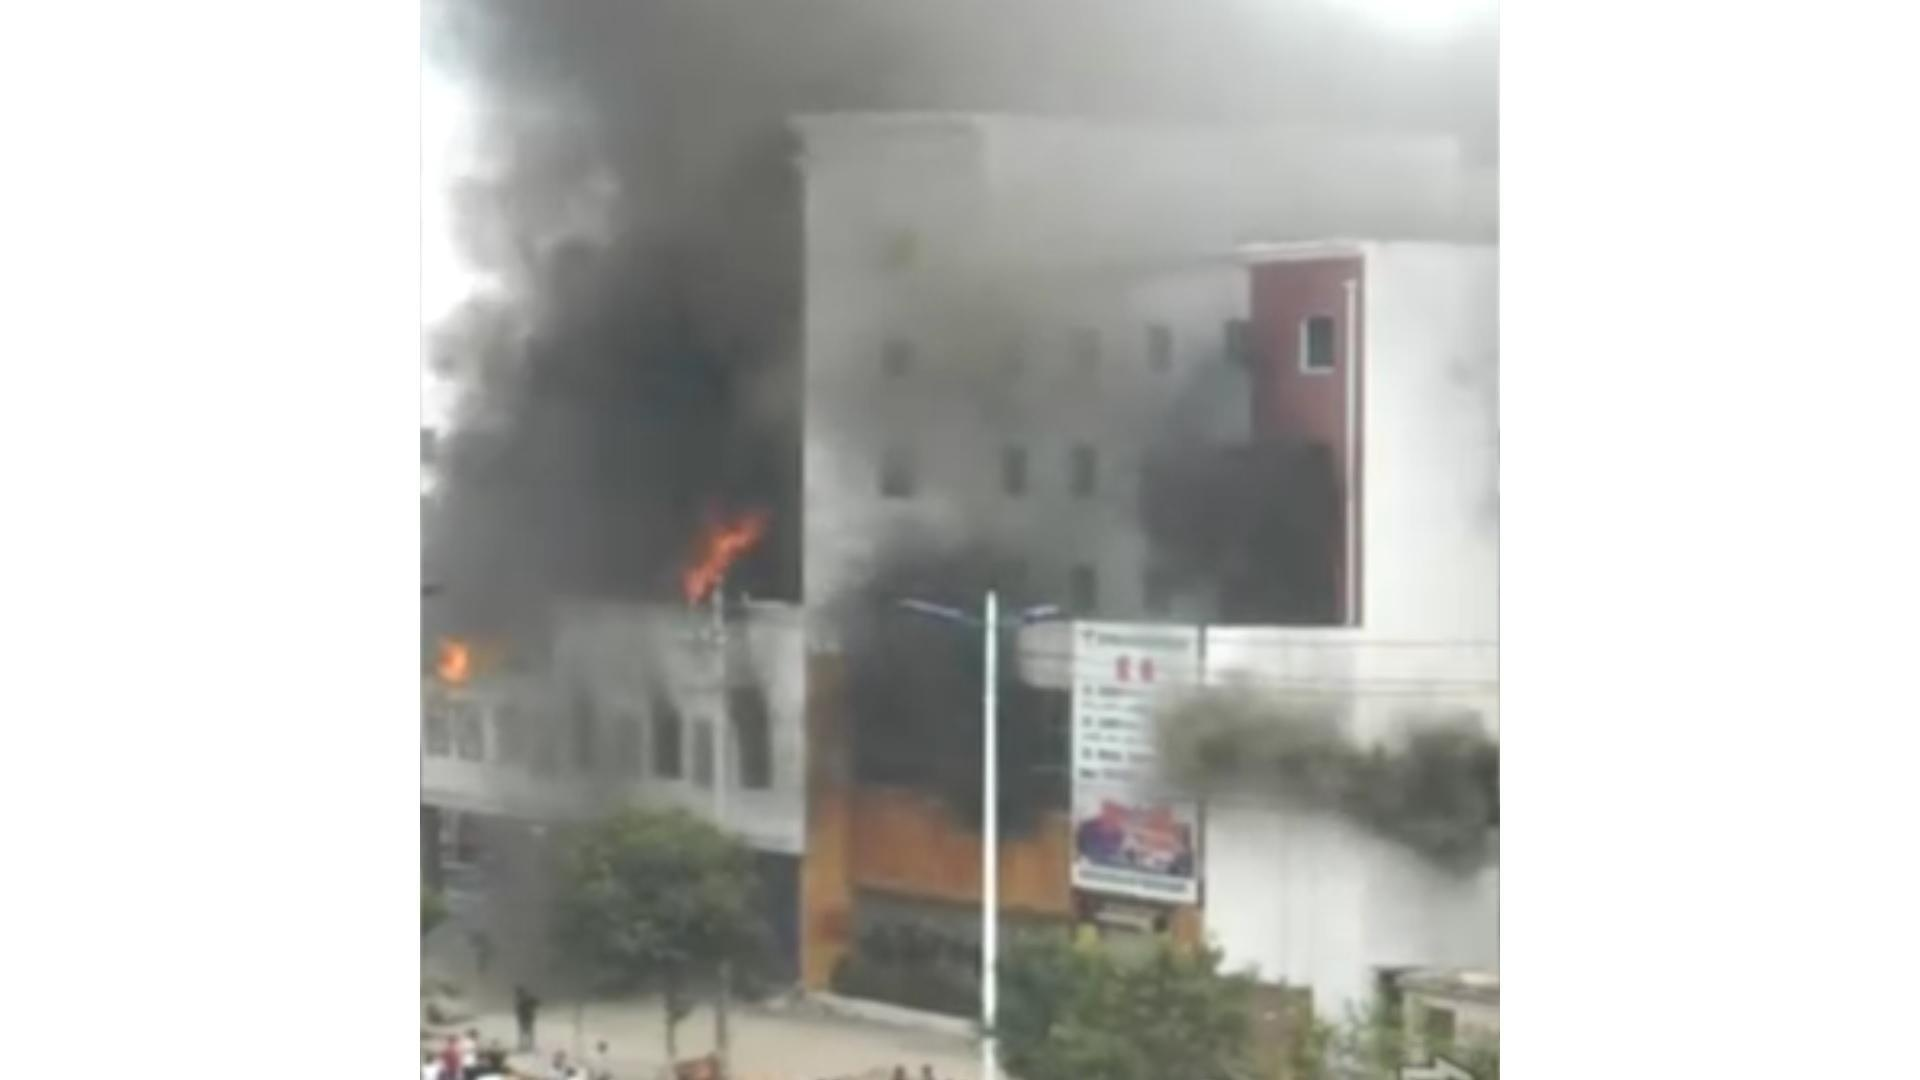fire: (679, 510, 767, 604), (433, 630, 475, 682)
